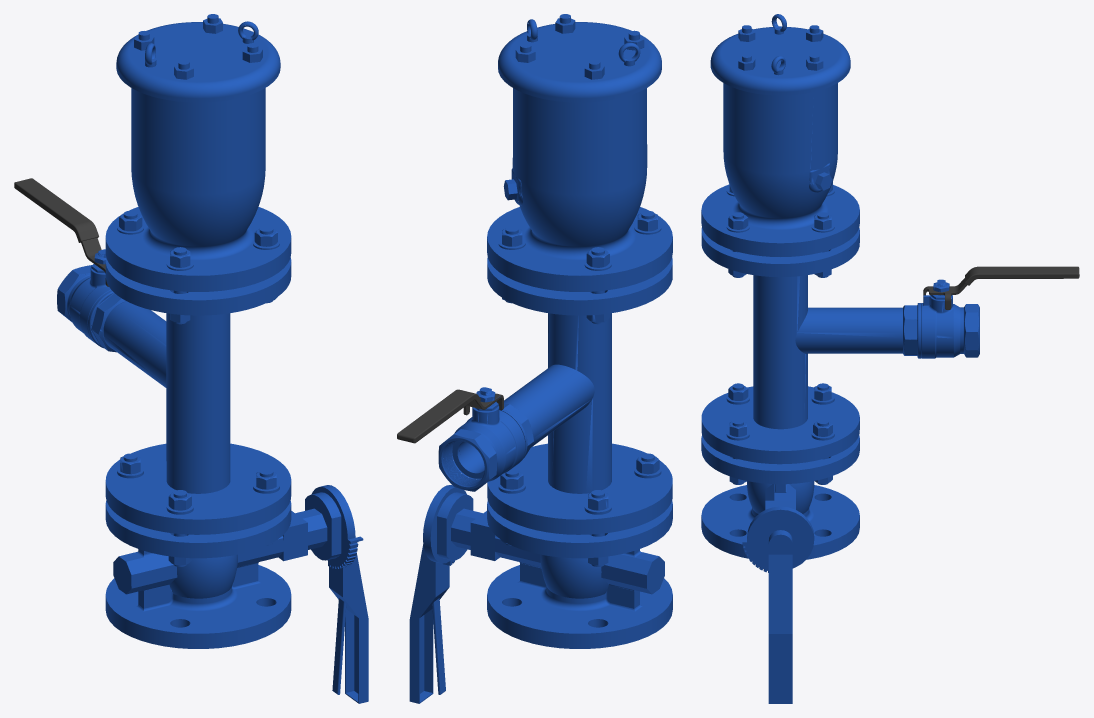
The model's file is DN50空气阀组件、异径三通、手动蝶阀.glb.
3 renders of one model, left to right at view 1: azimuth 30°, elevation 25°; view 2: azimuth 150°, elevation 25°; view 3: azimuth 270°, elevation 25°, orthographic. The views are drawn at different scales.
Visible parts, largest first — view 1: DN50空气阀组件（异径法兰和手动蝶阀）.SLDPRT; view 2: DN50空气阀组件（异径法兰和手动蝶阀）.SLDPRT; view 3: DN50空气阀组件（异径法兰和手动蝶阀）.SLDPRT.
Part boxes in pixels (x1,y1,x2,y2): DN50空气阀组件（异径法兰和手动蝶阀）.SLDPRT: (14,14,368,703); DN50空气阀组件（异径法兰和手动蝶阀）.SLDPRT: (397,14,672,703); DN50空气阀组件（异径法兰和手动蝶阀）.SLDPRT: (701,14,1079,703).
Bounding box in the file's own units: 0.25 × 0.6909 × 0.3938.
